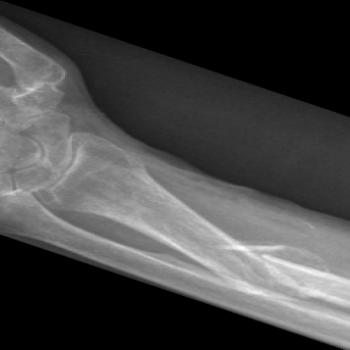Fracture: (217, 249, 332, 294)
